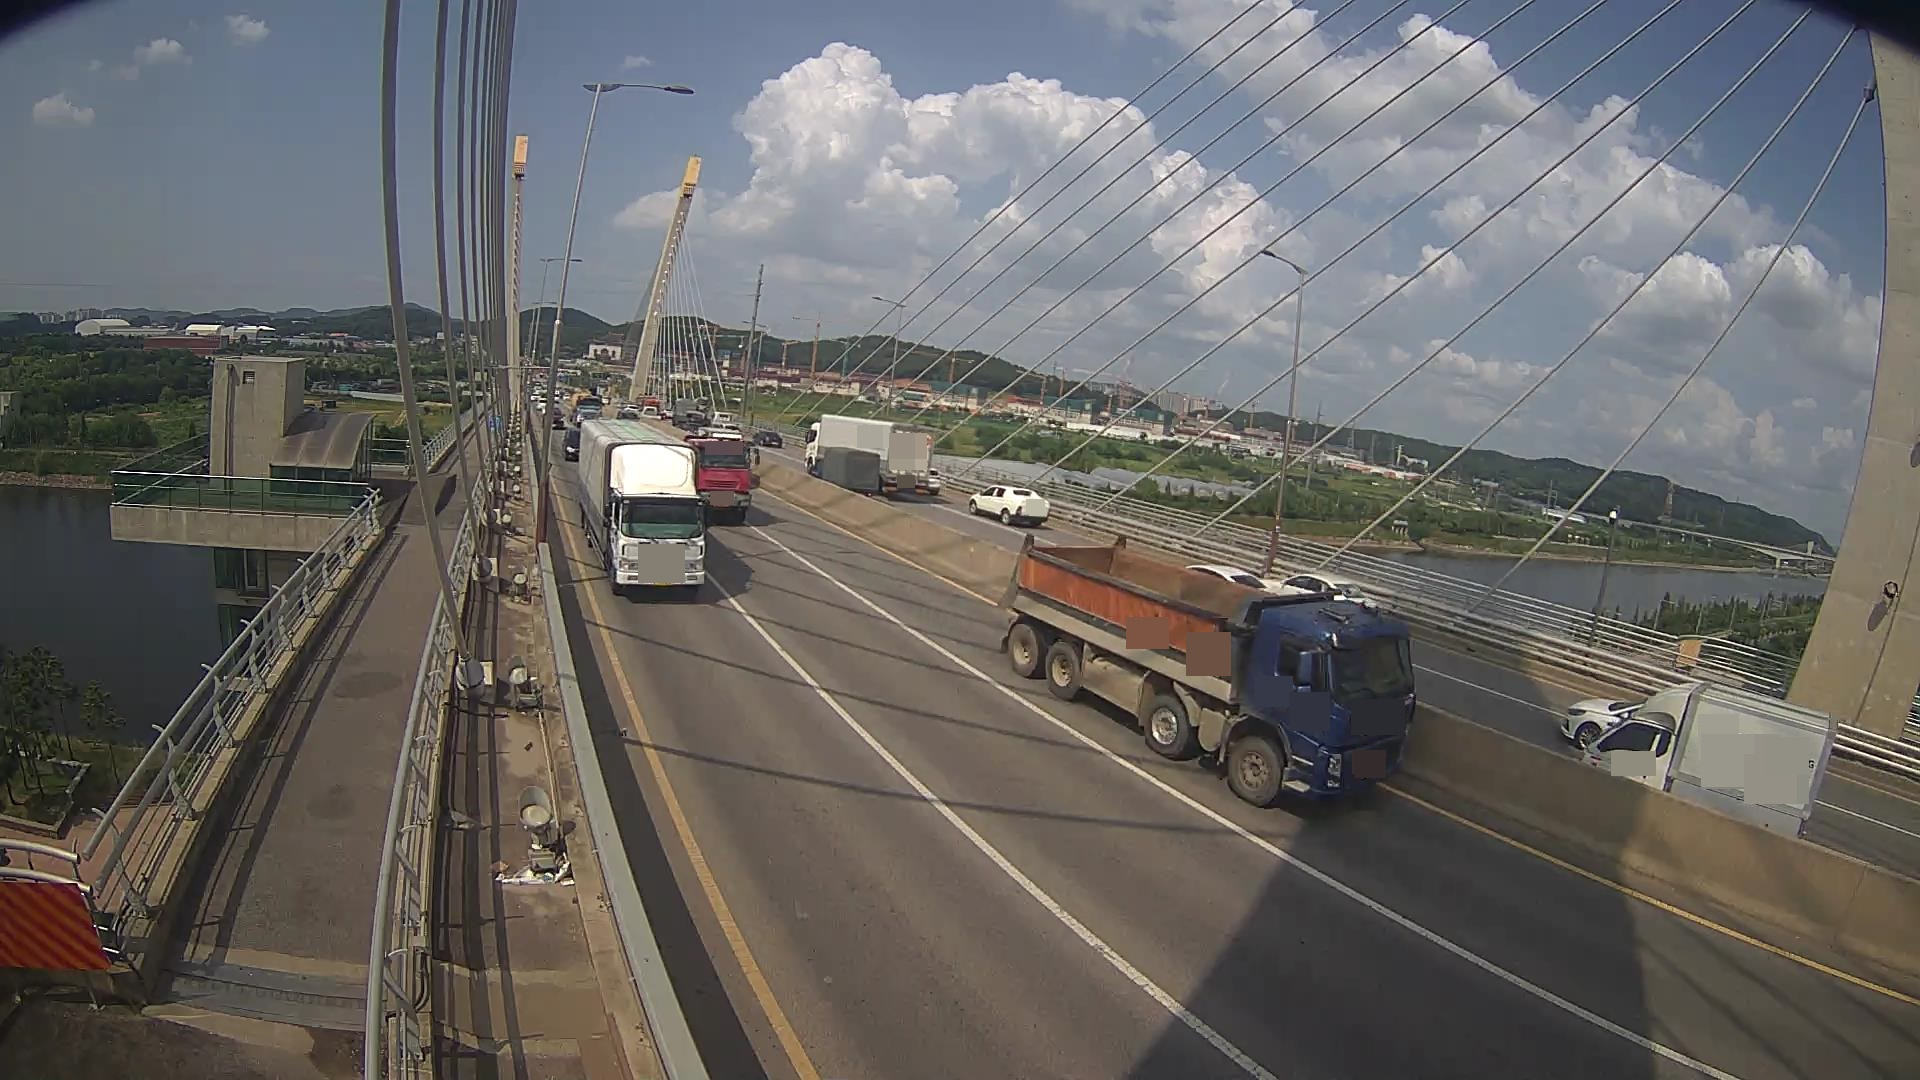정상차량: (994, 530, 1418, 807)
